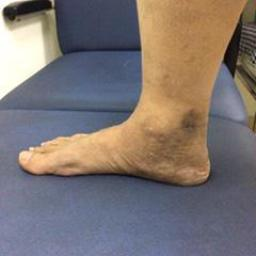Medial View -Right Foot-: (11, 78, 223, 201)
